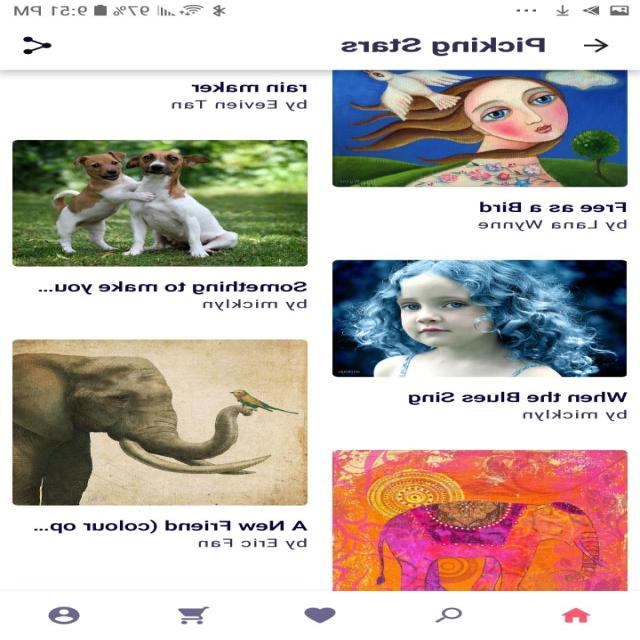Icon: (178, 605, 210, 624), (49, 606, 82, 624), (23, 36, 53, 55), (305, 607, 337, 623), (561, 607, 591, 622), (436, 607, 464, 622), (584, 38, 611, 53)
Image: (14, 339, 308, 506), (332, 450, 628, 590), (12, 140, 308, 266), (332, 70, 628, 187), (332, 260, 626, 377)
Text: (341, 37, 546, 56), (34, 519, 310, 533), (39, 280, 309, 294), (408, 391, 628, 405), (478, 219, 628, 231), (172, 99, 308, 112), (479, 200, 626, 212), (199, 537, 309, 550), (191, 81, 308, 93), (202, 298, 308, 311), (522, 409, 628, 421)
